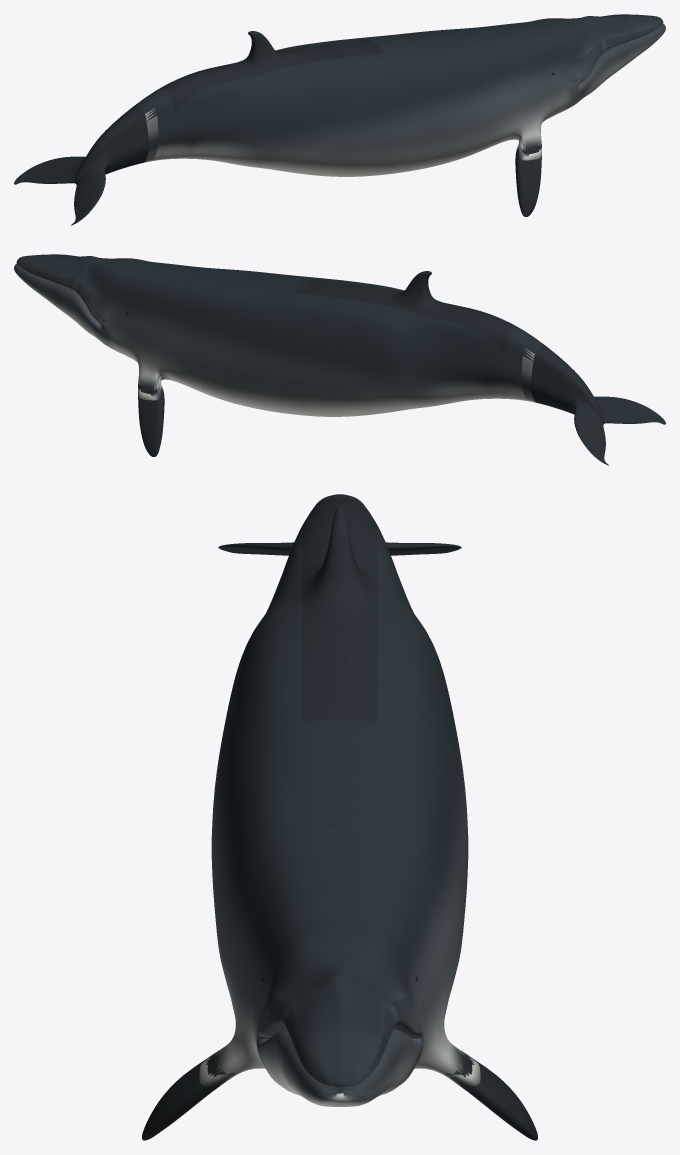
Rendered from model-cetacean-balaenoptera-bonaerensis-v0677.glb.
3 renders of one model, top to bottom at view 1: azimuth 30°, elevation 25°; view 2: azimuth 150°, elevation 25°; view 3: azimuth 270°, elevation 25°, orthographic. The views are drawn at different scales.
Visible parts, largest first — view 1: balaenoptera-bonaerensis source-derived exterior; view 2: balaenoptera-bonaerensis source-derived exterior; view 3: balaenoptera-bonaerensis source-derived exterior.
Part boxes in pixels (box(x1,y1,x2,y2)): balaenoptera-bonaerensis source-derived exterior: box(14, 14, 665, 225); balaenoptera-bonaerensis source-derived exterior: box(14, 254, 665, 465); balaenoptera-bonaerensis source-derived exterior: box(142, 494, 537, 1140).
Bounding box in the file's own units: 3.83 × 1.21 × 1.06.
1 material, 1 textured.
